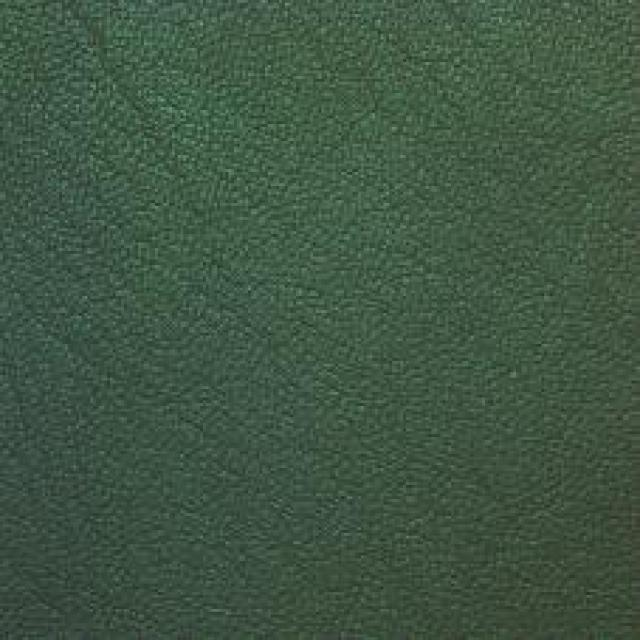Growth Marks: (70, 13, 194, 186)
